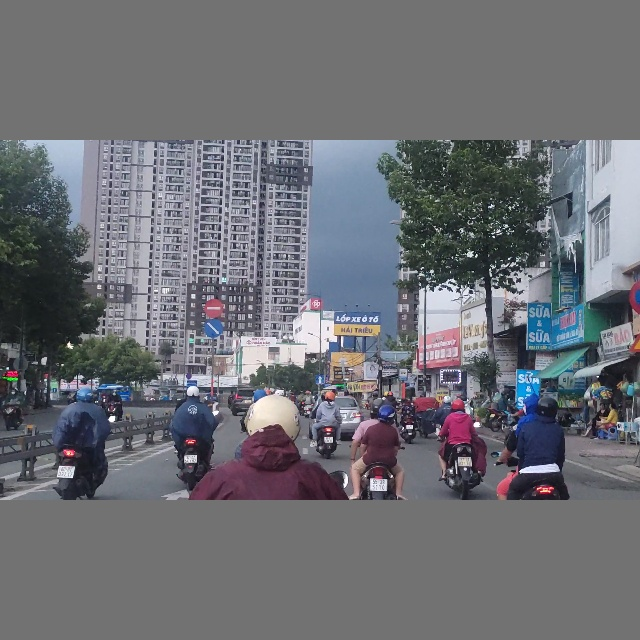I.407a: (315, 374, 325, 385)
I.434a: (398, 368, 408, 381)
P.102: (205, 299, 223, 318)
P.130: (630, 273, 640, 313)
R.302a: (202, 319, 225, 338)
